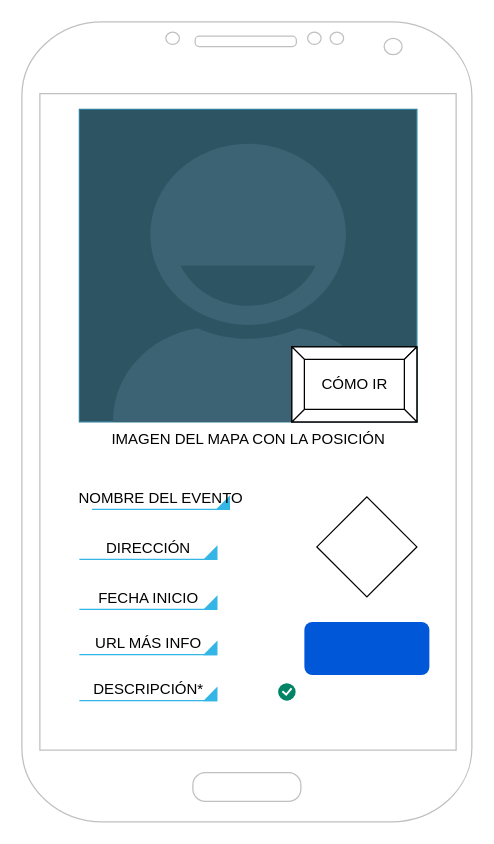
Image size: 494x844. Some labels were removed from this diagram. Here are the shapes that lost their labels. From the top down, the centre of each, then its label:
At point (366, 546): "PUNTUACIÓN".
At point (366, 647): "AGENDAR".
